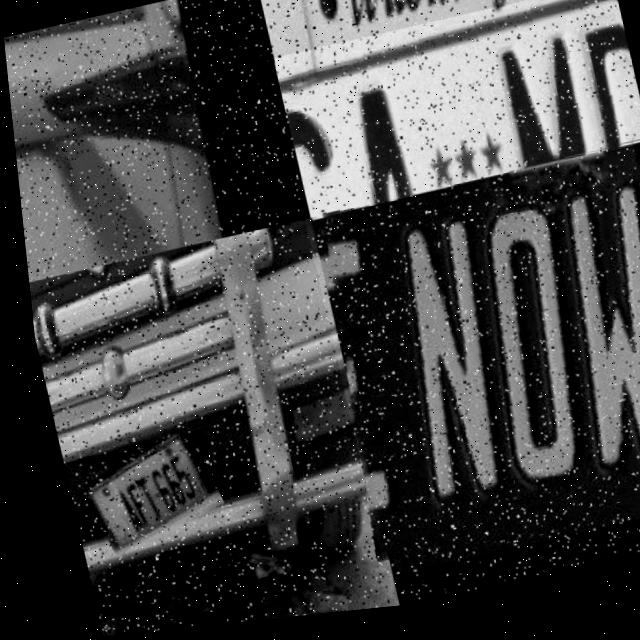LicensePlate: (296, 157, 640, 587), (267, 0, 640, 227), (66, 431, 215, 555), (12, 147, 83, 281)
